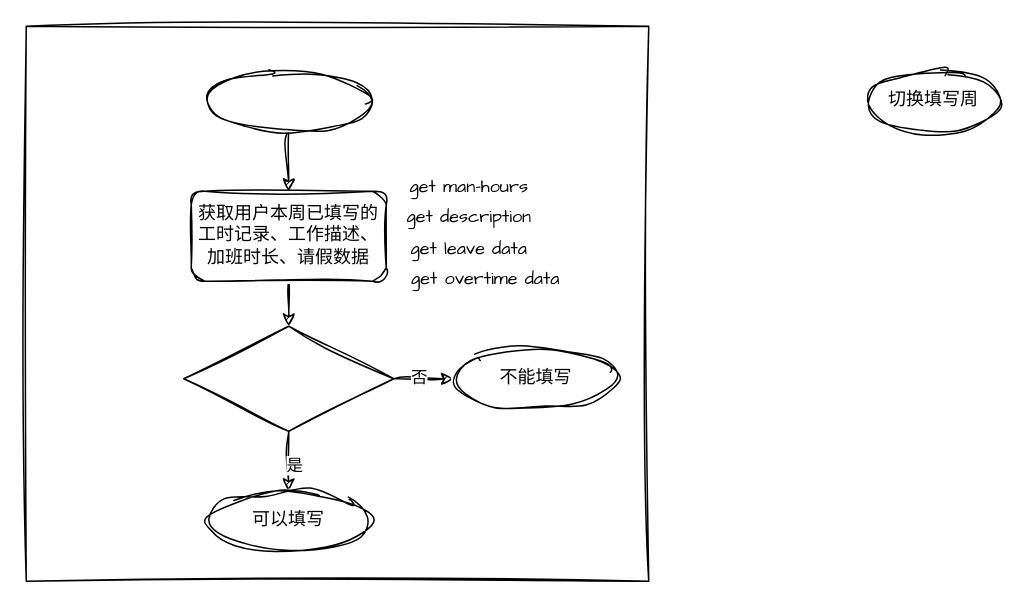
The diagram is 1028 pixels wide and 608 high, and some of its shapes have lost their labels. Each missing label, with the box of its shape:
数据是否locked？: (182, 325, 394, 431)
进入页面: (205, 70, 371, 131)
